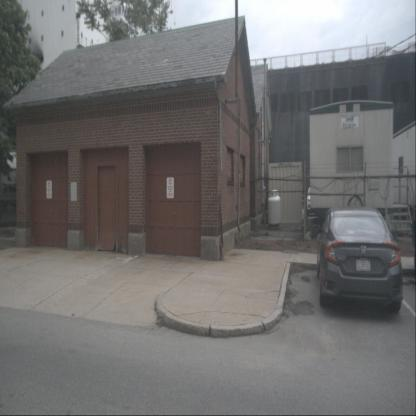vehicle-car: (317, 207, 403, 314)
